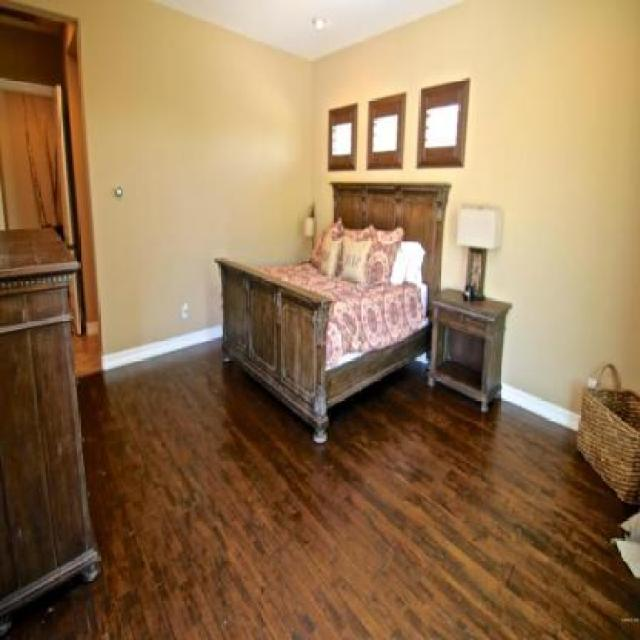floor: (0, 336, 640, 640)
